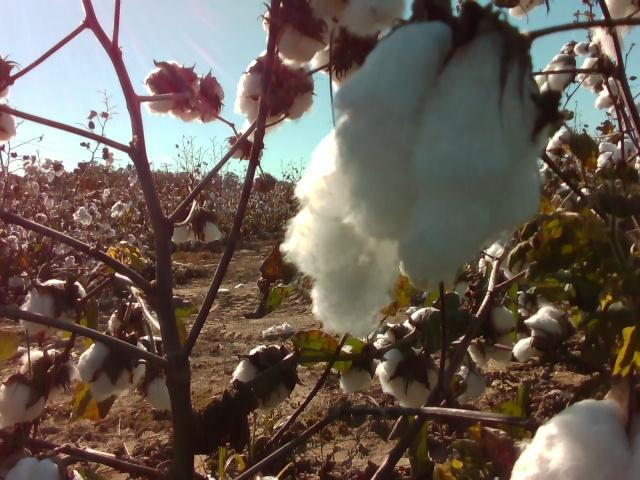cotton_ready: (280, 22, 541, 335), (511, 399, 640, 480), (240, 59, 316, 129), (262, 0, 331, 67), (231, 346, 300, 410), (77, 340, 149, 401), (136, 336, 190, 413), (20, 278, 88, 338), (374, 350, 439, 409), (514, 306, 574, 364), (466, 305, 519, 370), (145, 61, 200, 119), (27, 349, 77, 407), (594, 0, 640, 62), (327, 0, 407, 35), (402, 260, 468, 301), (330, 341, 376, 394), (318, 38, 370, 82), (478, 234, 530, 278), (0, 378, 42, 430), (181, 78, 226, 122), (403, 306, 446, 352), (8, 460, 88, 480), (537, 55, 574, 92), (453, 371, 491, 407), (596, 139, 634, 174), (173, 220, 221, 247), (109, 306, 146, 340), (372, 322, 409, 352), (0, 109, 18, 139)
